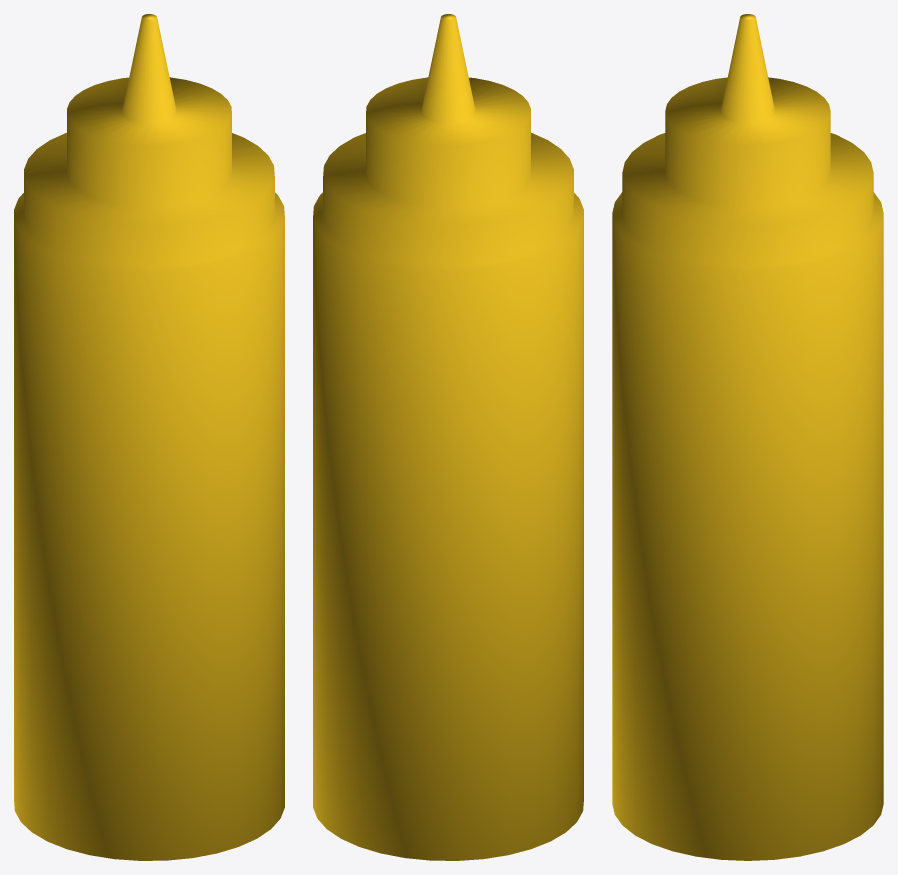
Rendered from Mustard bottle model.fbx.
3 views of the same model, side by side, from view 1: azimuth 30°, elevation 25°; view 2: azimuth 150°, elevation 25°; view 3: azimuth 270°, elevation 25° (orthographic).
Parts seen in each view (by area): view 1: Mustard container; view 2: Mustard container; view 3: Mustard container.
Part boxes in pixels (<box>): Mustard container: <box>14,14,284,860</box>; Mustard container: <box>313,14,583,860</box>; Mustard container: <box>612,14,883,860</box>.
Size of the model in its own units: 200 by 639 by 200.
1 material, 1 textured.
